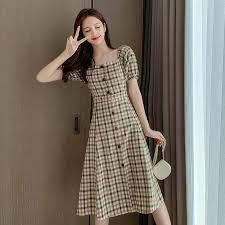dress: (68, 47, 163, 218)
